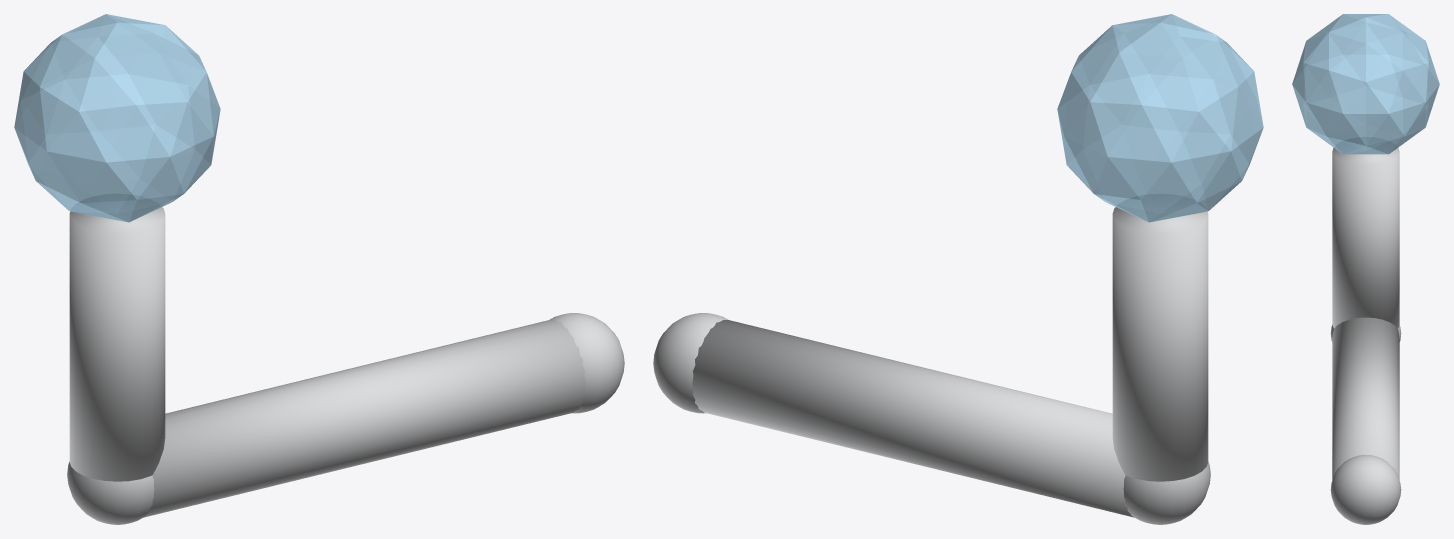
The model's file is nose-stud-l-titanium-blue-gem-18g.glb.
3 renders of one model, left to right at view 1: azimuth 30°, elevation 25°; view 2: azimuth 150°, elevation 25°; view 3: azimuth 270°, elevation 25°, orthographic. The views are drawn at different scales.
Visible parts, largest first — view 1: nose_stud_l; view 2: nose_stud_l; view 3: nose_stud_l.
Part boxes in pixels (x1,y1,x2,y2): nose_stud_l: (14, 14, 624, 524); nose_stud_l: (653, 14, 1263, 524); nose_stud_l: (1292, 14, 1439, 524).
Bounding box in the file's own units: 0.00707 × 0.00573 × 0.0022.
